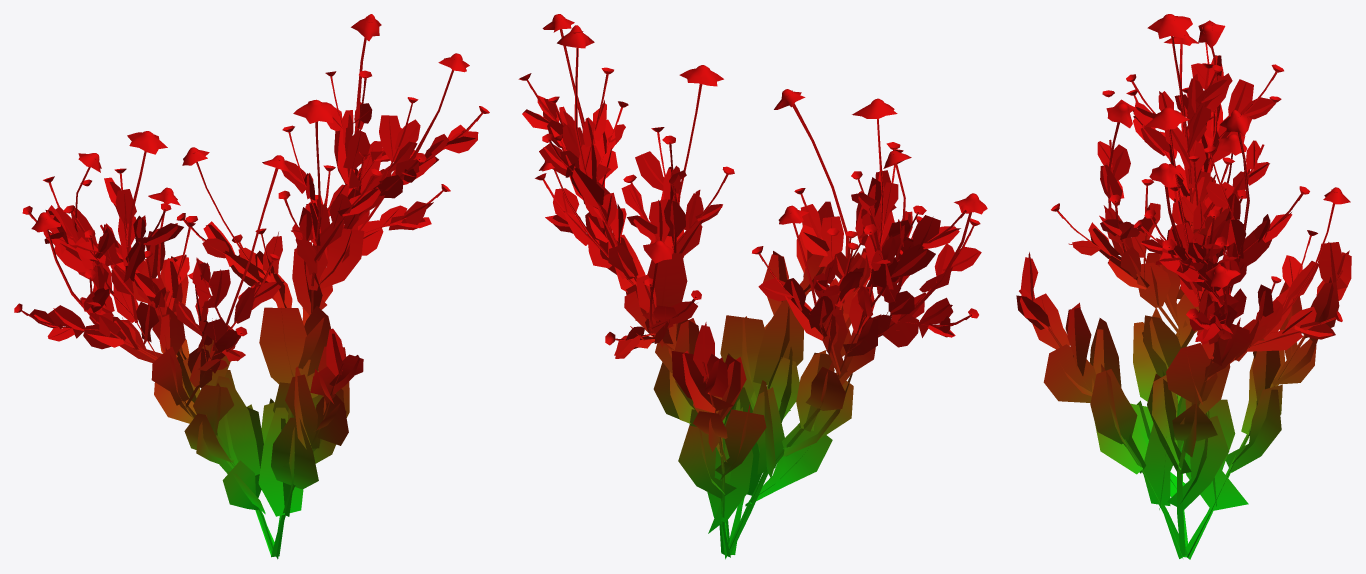
Rendered from Chamomile_LOD1_Var2_ujcnejvja.fbx.
The picture shows the model from 3 angles, left to right: view 1: azimuth 30°, elevation 25°; view 2: azimuth 150°, elevation 25°; view 3: azimuth 270°, elevation 25°; orthographic projection. The views are drawn at different scales.
Visible parts, largest first — view 1: _jxim_Var2_LOD1; view 2: _jxim_Var2_LOD1; view 3: _jxim_Var2_LOD1.
Part boxes in pixels (left/top/right/bottom): _jxim_Var2_LOD1: left=14, top=14, right=489, bottom=559; _jxim_Var2_LOD1: left=518, top=14, right=987, bottom=559; _jxim_Var2_LOD1: left=1016, top=14, right=1351, bottom=559.
Bounding box in the file's own units: 57.99 × 60.44 × 36.
